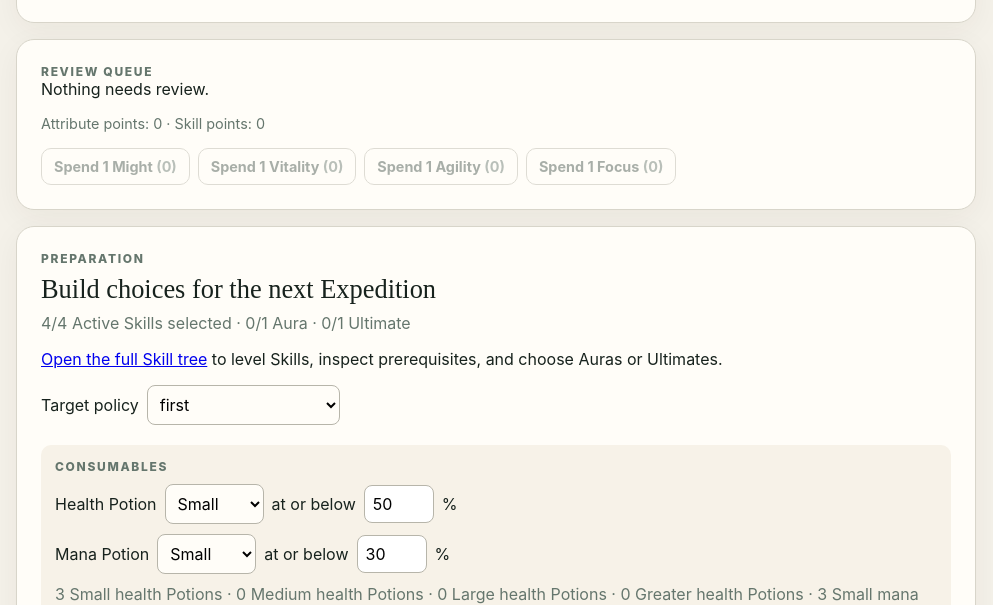
Test: playable browser shell › exposes Preparation choices and locks them after the Expedition starts
(page scrolled)
Select "lowest-health" in the dropdown labelled "Target policy" at (243, 405), box [147, 385, 340, 425]
(page scrolled)
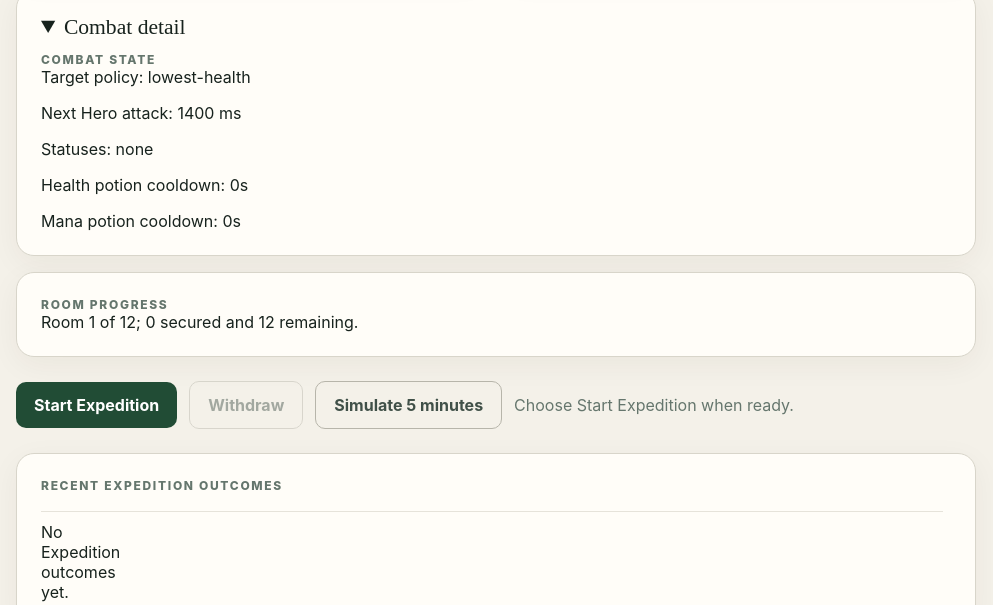
Click the button "Start Expedition" at (97, 405), box [16, 382, 177, 428]
(page scrolled)
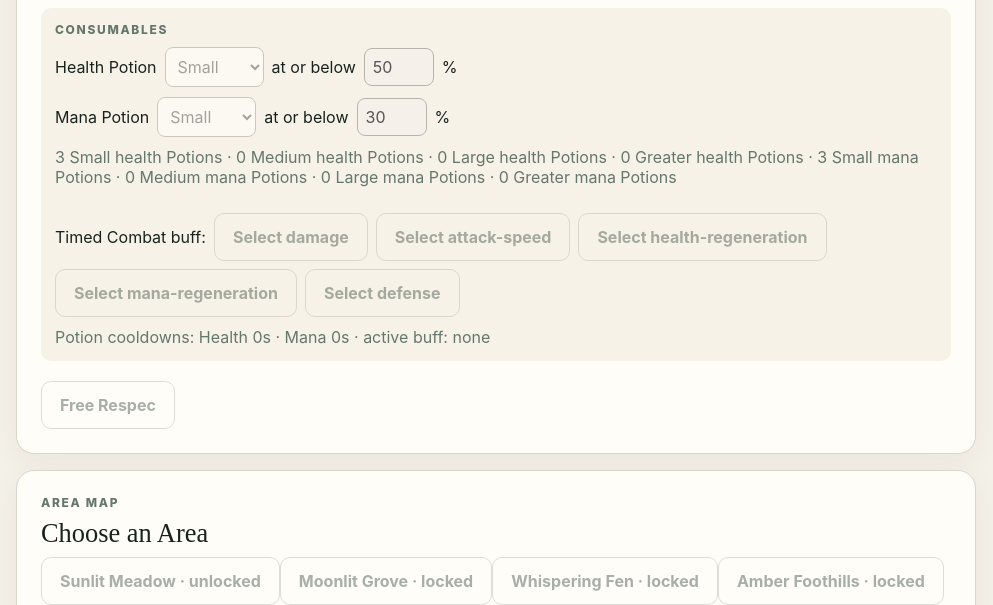
Now the button "Free Respec" is disabled, box [41, 381, 175, 429]
